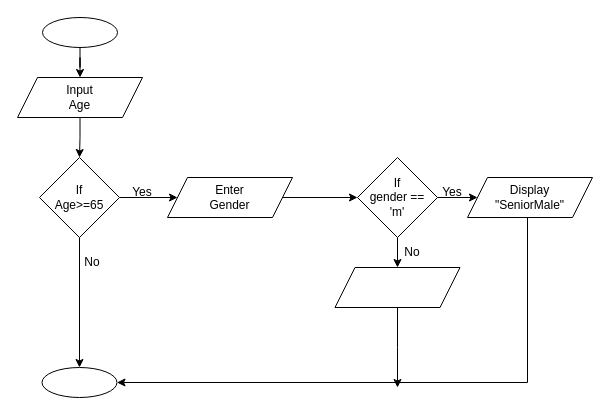
The diagram is 610 pixels wide and 415 high, and some of its shapes have lost their labels. The centre of each missing label's shape, as x and y in pixels:
Display "SeniorFemale": [397,287]
Start: [80,32]
Stop: [79,382]
